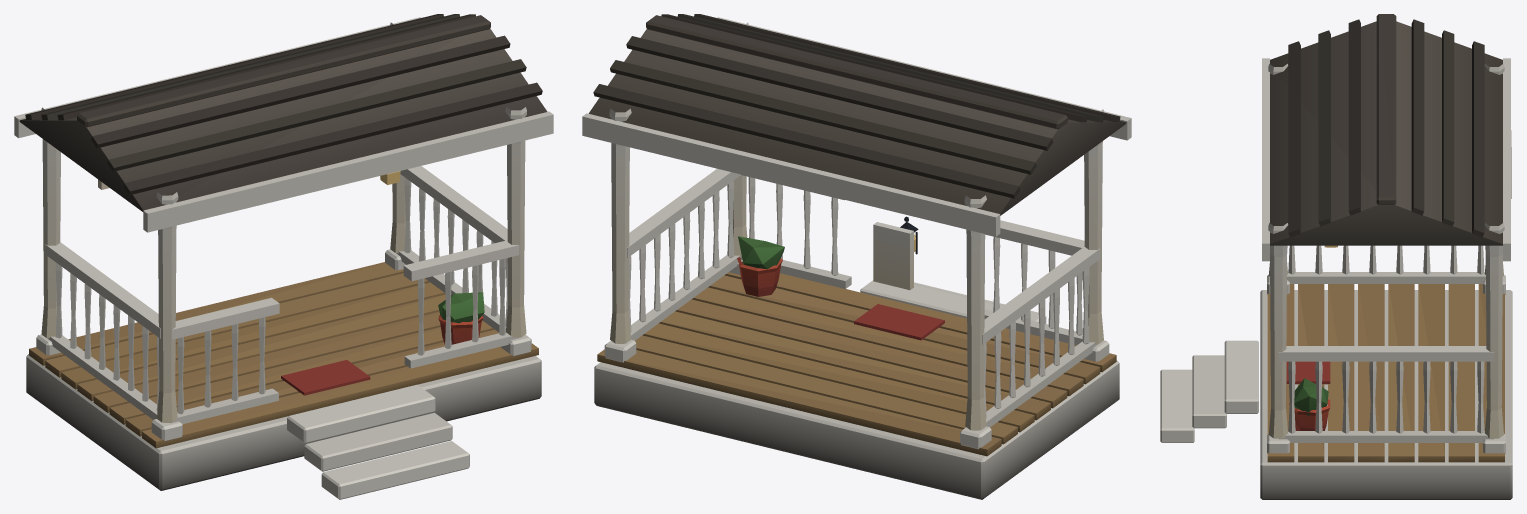
File: front-porch.glb
3 views of the same model, side by side, from view 1: azimuth 30°, elevation 25°; view 2: azimuth 150°, elevation 25°; view 3: azimuth 270°, elevation 25° (orthographic). The views are drawn at different scales.
Visible parts, largest first — view 1: front_porch; view 2: front_porch; view 3: front_porch.
Boxes of the visible parts, x1,y1,x2,y2 form: front_porch: (14, 14, 553, 499); front_porch: (582, 14, 1131, 499); front_porch: (1160, 14, 1512, 499).
Size of the model in its own units: 3.88 by 2.96 by 3.07.
